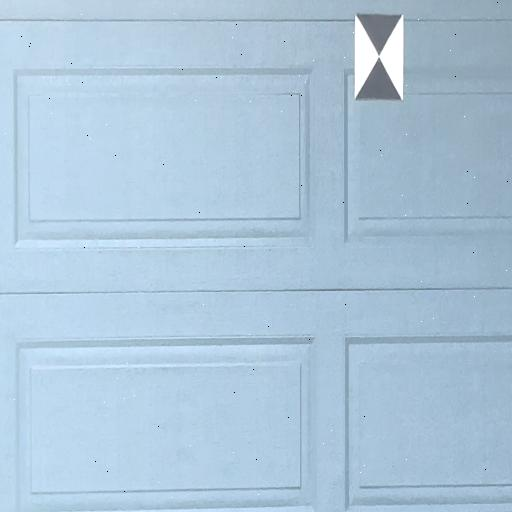target: (356, 14, 403, 100)
